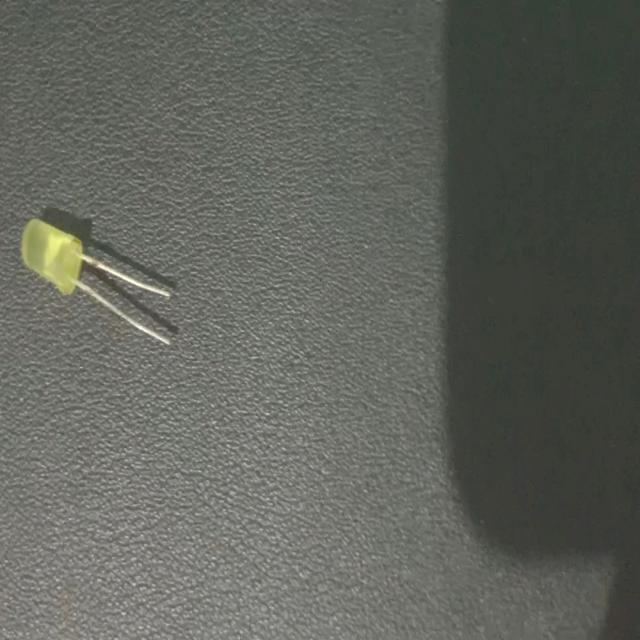LED: (19, 210, 176, 358)
